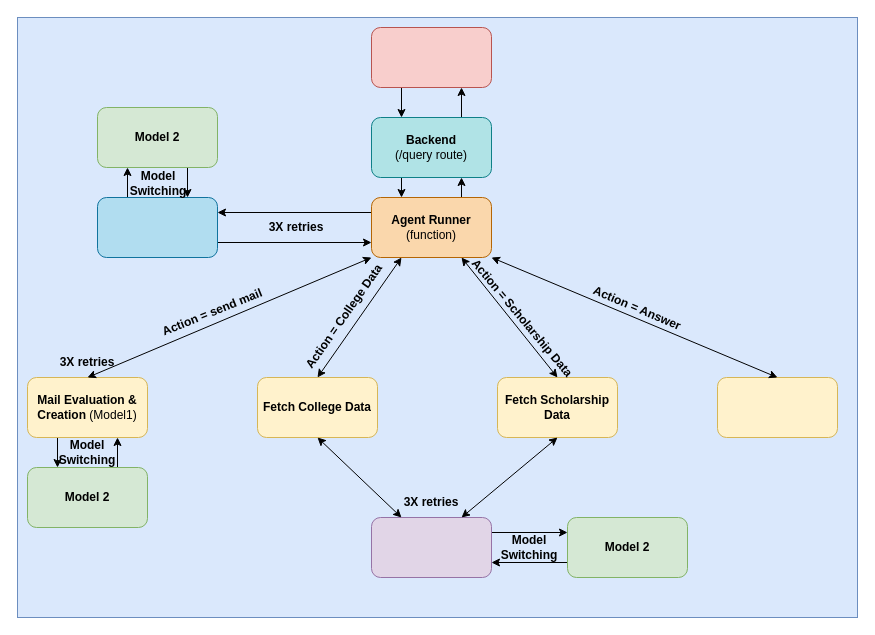
Some shapes in this 875 by 635 pixel diagram are drawn without their labels. The centre of each missing label's shape, as x and y in pixels:
"Action Decider (Model 1)" belongs at (x=157, y=227).
"Answer Formatter Model" belongs at (x=431, y=547).
"Return Answer" belongs at (x=777, y=407).
"Web UI (Frontend)" belongs at (x=431, y=57).
